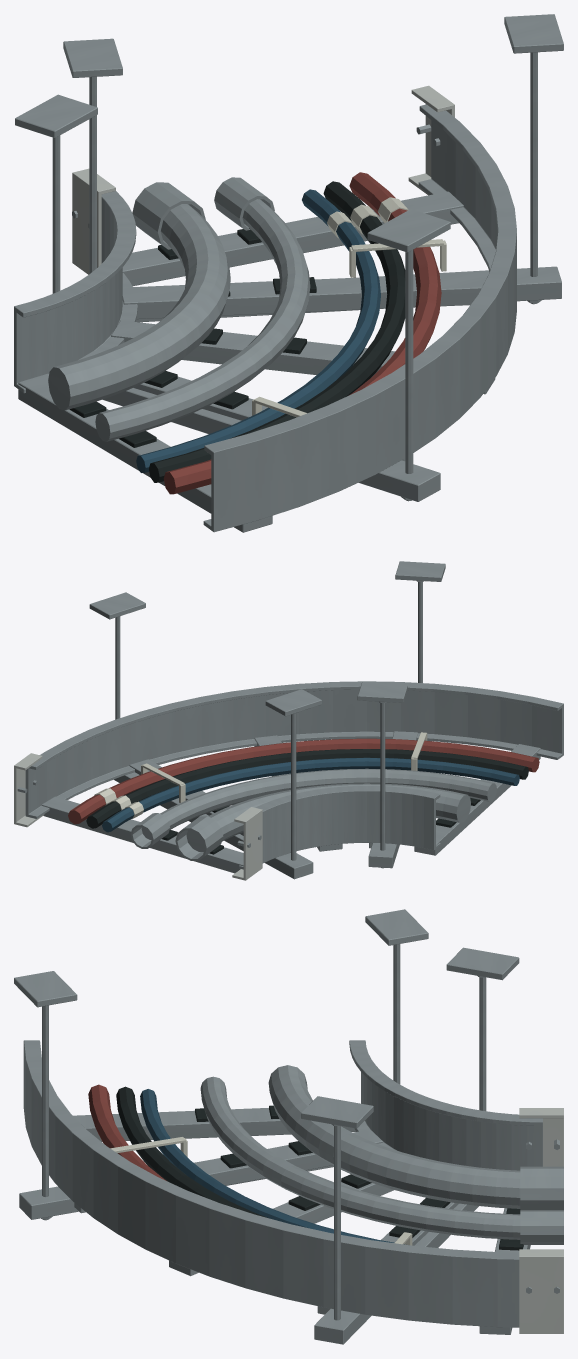
File: AST-STF-005.glb
3 views of the same model, one above another, from view 1: azimuth 30°, elevation 25°; view 2: azimuth 150°, elevation 25°; view 3: azimuth 270°, elevation 25° (orthographic). The views are drawn at different scales.
Parts seen in each view (by area): view 1: AST-STF-005__staff_zinc, AST-STF-005__staff_rubber, AST-STF-005__staff_cable_blue, AST-STF-005__staff_cable_red, AST-STF-005__staff_white_paint, AST-STF-005__staff_label; view 2: AST-STF-005__staff_zinc, AST-STF-005__staff_cable_red, AST-STF-005__staff_cable_blue, AST-STF-005__staff_rubber, AST-STF-005__staff_white_paint, AST-STF-005__staff_label; view 3: AST-STF-005__staff_zinc, AST-STF-005__staff_white_paint, AST-STF-005__staff_rubber, AST-STF-005__staff_cable_blue, AST-STF-005__staff_cable_red, AST-STF-005__staff_label.
Boxes of the visible parts, bbox=[...] form: AST-STF-005__staff_zinc: bbox=[14, 14, 563, 532]; AST-STF-005__staff_rubber: bbox=[69, 181, 405, 482]; AST-STF-005__staff_cable_blue: bbox=[136, 189, 380, 472]; AST-STF-005__staff_cable_red: bbox=[163, 172, 441, 494]; AST-STF-005__staff_white_paint: bbox=[72, 85, 454, 274]; AST-STF-005__staff_label: bbox=[252, 197, 446, 417]; AST-STF-005__staff_zinc: bbox=[17, 561, 563, 879]; AST-STF-005__staff_cable_red: bbox=[68, 738, 539, 824]; AST-STF-005__staff_cable_blue: bbox=[102, 757, 519, 832]; AST-STF-005__staff_rubber: bbox=[86, 749, 528, 854]; AST-STF-005__staff_white_paint: bbox=[14, 753, 262, 880]; AST-STF-005__staff_label: bbox=[94, 732, 427, 818]; AST-STF-005__staff_zinc: bbox=[14, 909, 563, 1344]; AST-STF-005__staff_white_paint: bbox=[519, 1108, 563, 1333]; AST-STF-005__staff_rubber: bbox=[116, 1086, 523, 1250]; AST-STF-005__staff_cable_blue: bbox=[140, 1089, 406, 1244]; AST-STF-005__staff_cable_red: bbox=[88, 1084, 166, 1180]; AST-STF-005__staff_label: bbox=[110, 1137, 412, 1245].
Size of the model in its own units: 0.9098 by 0.442 by 0.9458.
Materials: 6 (6 with a texture image).
